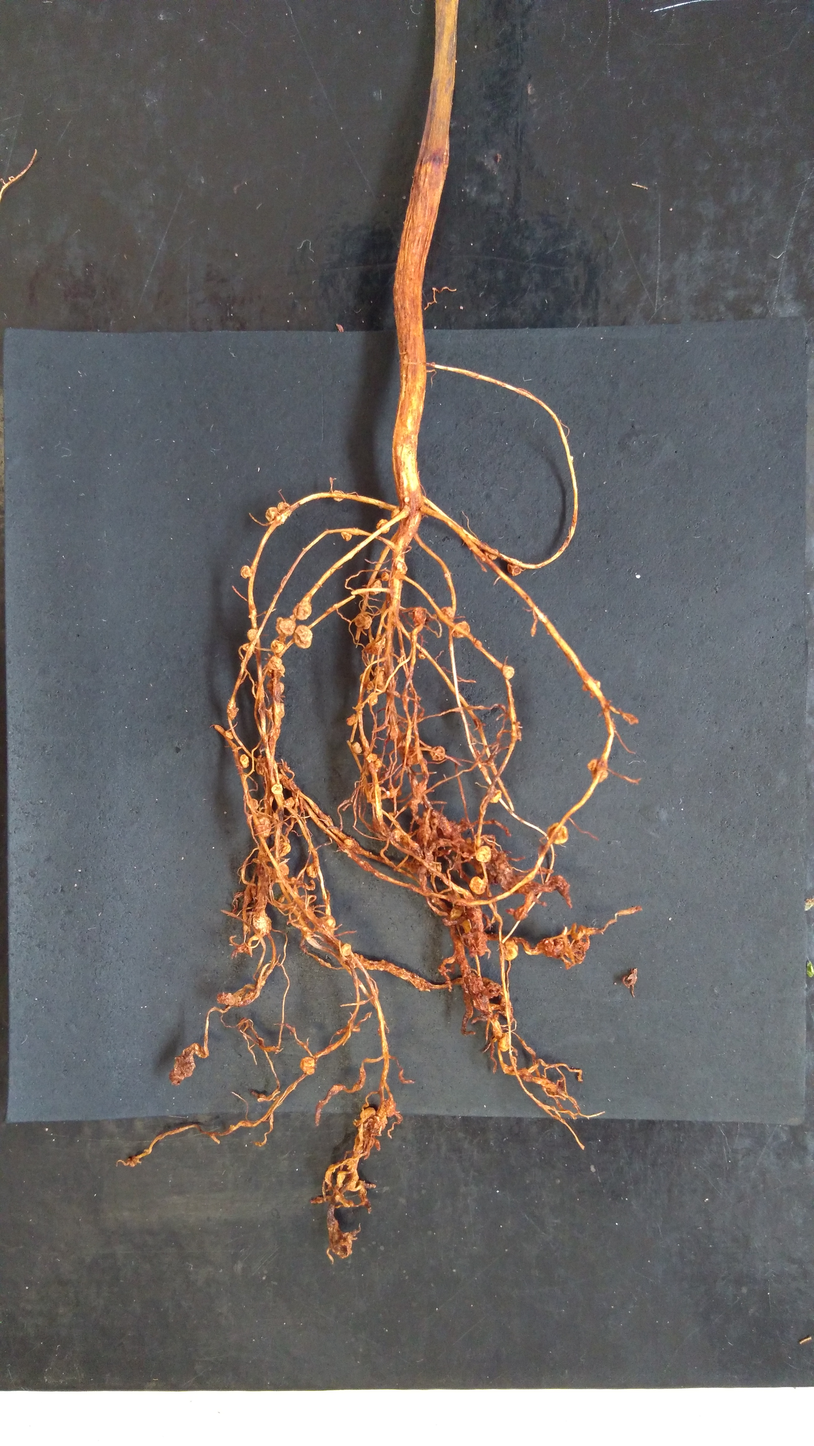nodule: (262, 500, 292, 524), (544, 821, 571, 847), (293, 624, 313, 650), (273, 616, 297, 637), (251, 915, 272, 936), (292, 601, 313, 621), (451, 620, 472, 640), (591, 758, 608, 782), (297, 1055, 316, 1076), (501, 940, 520, 961), (468, 875, 486, 897), (429, 744, 447, 765), (254, 817, 272, 837), (410, 605, 426, 627), (475, 844, 492, 864), (354, 613, 373, 630), (416, 824, 432, 844), (267, 701, 284, 719), (358, 1105, 377, 1121), (368, 579, 384, 597), (375, 518, 392, 534), (505, 562, 523, 577), (501, 663, 516, 681), (498, 1032, 511, 1052), (269, 639, 286, 654), (490, 1017, 503, 1036), (488, 789, 503, 805), (439, 604, 455, 619), (364, 643, 382, 656), (395, 559, 408, 577), (320, 915, 337, 928), (331, 489, 346, 503), (255, 755, 265, 776), (239, 565, 252, 580), (345, 712, 358, 727), (367, 692, 380, 707), (391, 826, 404, 841), (267, 656, 282, 669), (239, 753, 250, 770), (245, 628, 259, 641), (372, 671, 384, 686), (306, 863, 318, 878), (488, 548, 501, 561), (351, 741, 363, 755), (279, 860, 290, 875), (276, 681, 286, 697), (340, 942, 351, 956), (340, 530, 352, 542), (366, 752, 378, 764), (271, 783, 283, 795), (586, 757, 597, 770), (276, 664, 285, 679), (380, 570, 391, 582), (375, 636, 386, 648), (248, 798, 259, 809), (266, 679, 273, 695), (359, 672, 369, 683), (343, 838, 354, 848), (419, 648, 428, 660), (391, 506, 400, 518), (224, 730, 234, 740), (374, 757, 383, 768), (366, 681, 374, 690), (483, 548, 490, 557), (366, 690, 370, 694)
